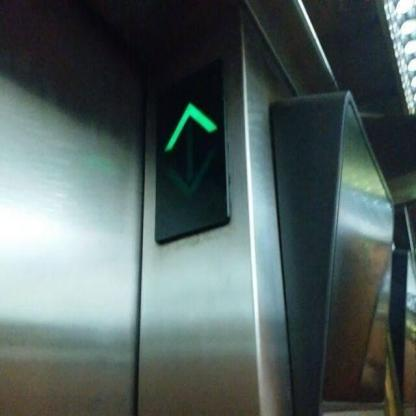up: (153, 54, 231, 248)
